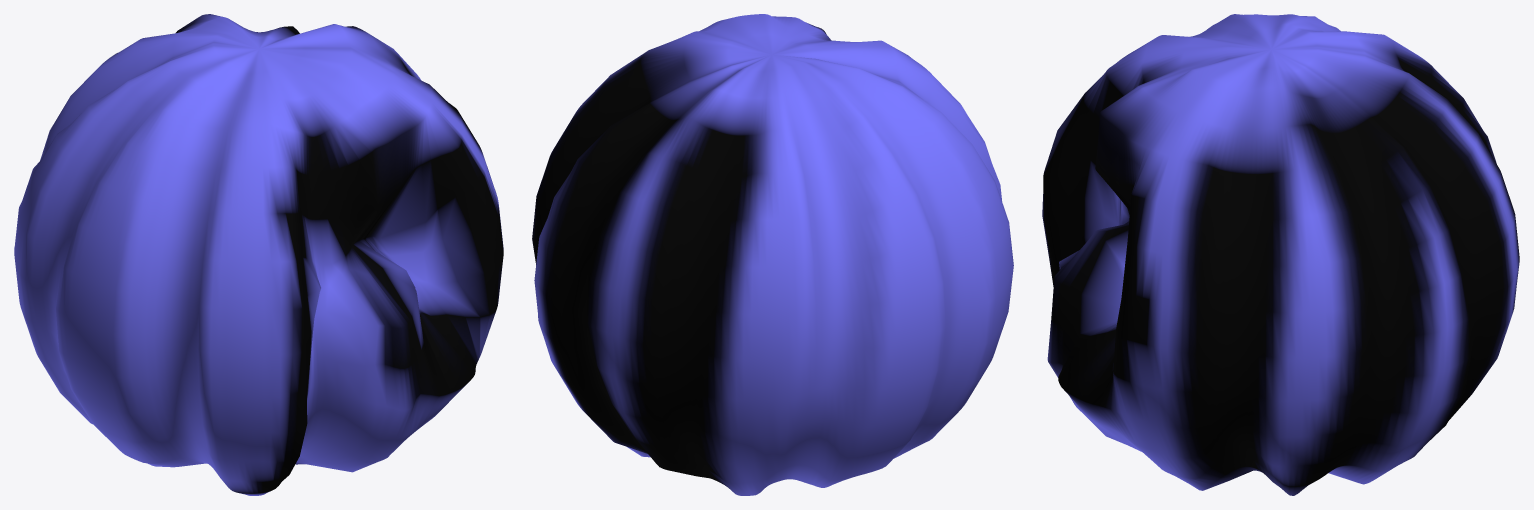
File: ReliquiaOrbe.fbx
3 views of the same model, side by side, from view 1: azimuth 30°, elevation 25°; view 2: azimuth 150°, elevation 25°; view 3: azimuth 270°, elevation 25° (orthographic).
Parts seen in each view (by area): view 1: Sphere; view 2: Sphere; view 3: Sphere.
Part boxes in pixels (x1,y1,x2,y2): Sphere: [14, 14, 503, 495]; Sphere: [532, 14, 1013, 495]; Sphere: [1042, 14, 1519, 495].
Size of the model in its own units: 199 by 187 by 193.
